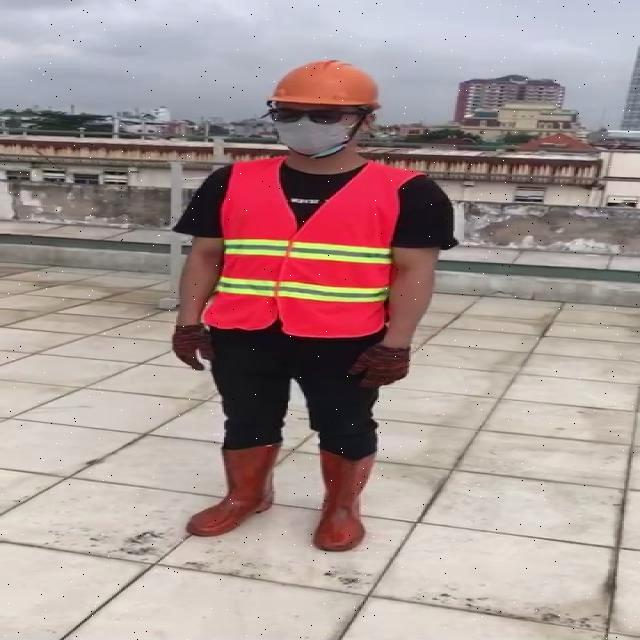Hard_hat: (263, 54, 390, 118)
Person: (165, 62, 467, 594)
Vest: (213, 155, 398, 342)
